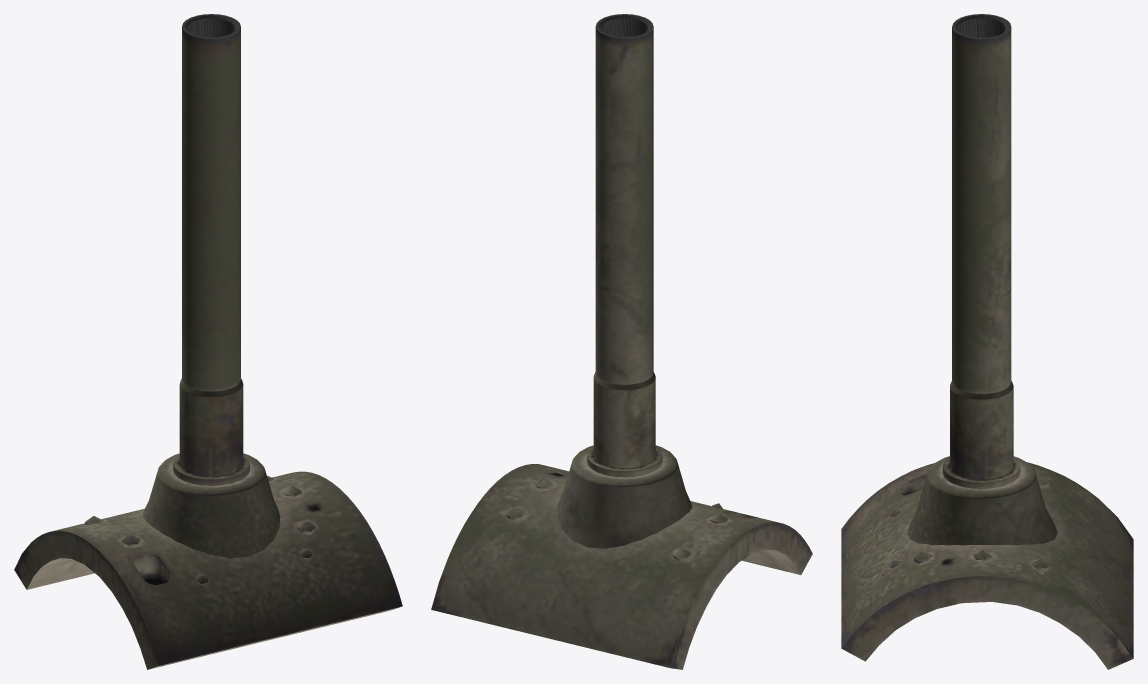
File: Gun_07.glb
3 renders of one model, left to right at view 1: azimuth 30°, elevation 25°; view 2: azimuth 150°, elevation 25°; view 3: azimuth 270°, elevation 25°, orthographic. The views are drawn at different scales.
Visible parts, largest first — view 1: set_0_group_0; view 2: set_0_group_0; view 3: set_0_group_0.
Part boxes in pixels (x1,y1,x2,y2): set_0_group_0: (14,14,402,669); set_0_group_0: (431,14,812,669); set_0_group_0: (841,14,1133,669).
Size of the model in its own units: 0.7166 by 1.63 by 0.7388.
1 material, 1 textured.
